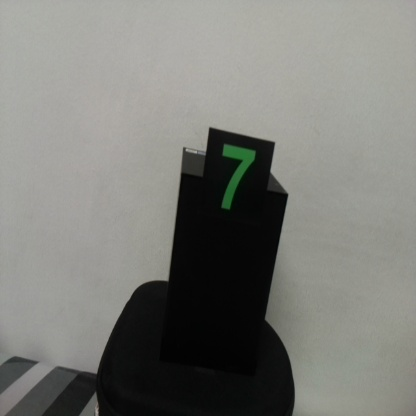id_7: (208, 129, 273, 252)
